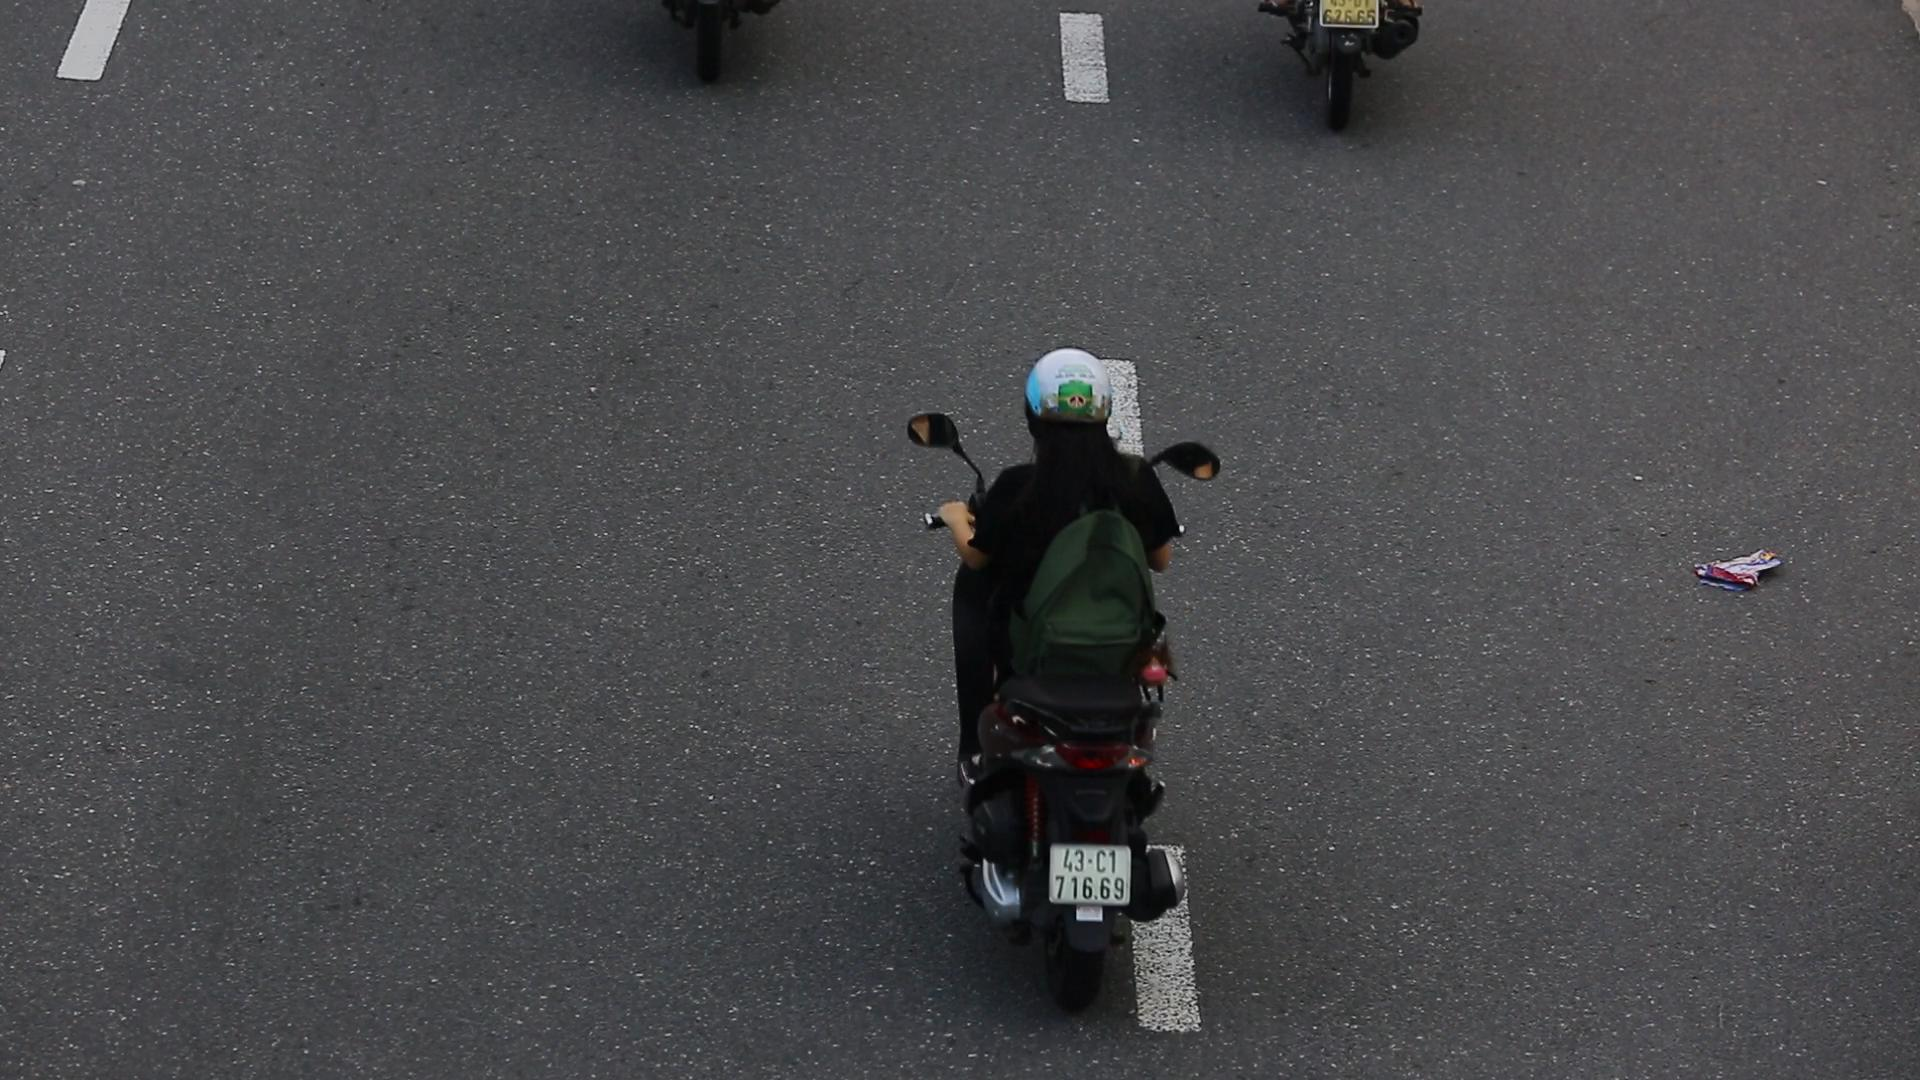motobike: (878, 335, 1232, 1019)
